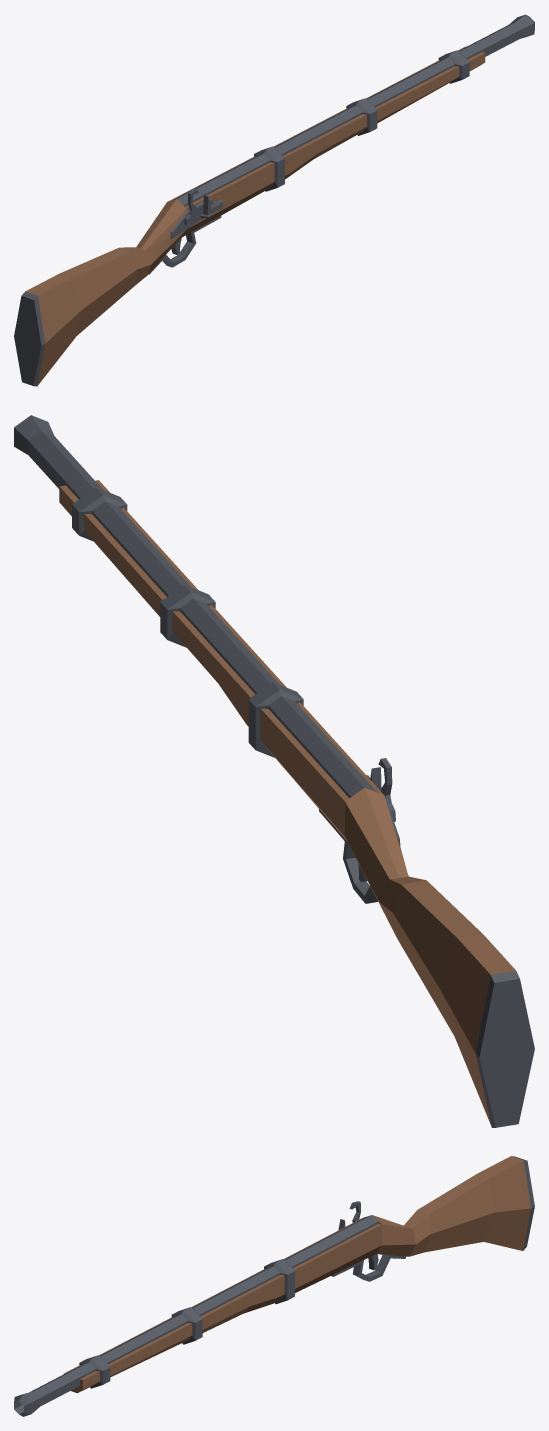
The model's file is Fucile lungo.fbx.
The picture shows the model from 3 angles, top to bottom: view 1: azimuth 90°, elevation 25°; view 2: azimuth 150°, elevation 25°; view 3: azimuth 270°, elevation 25°; orthographic projection. The views are drawn at different scales.
Visible parts, largest first — view 1: Musket; view 2: Musket; view 3: Musket.
Boxes of the visible parts, bbox=[...] form: Musket: bbox=[14, 14, 534, 386]; Musket: bbox=[14, 415, 534, 1127]; Musket: bbox=[14, 1156, 534, 1416].
Size of the model in its own units: 128 by 26.81 by 105.
